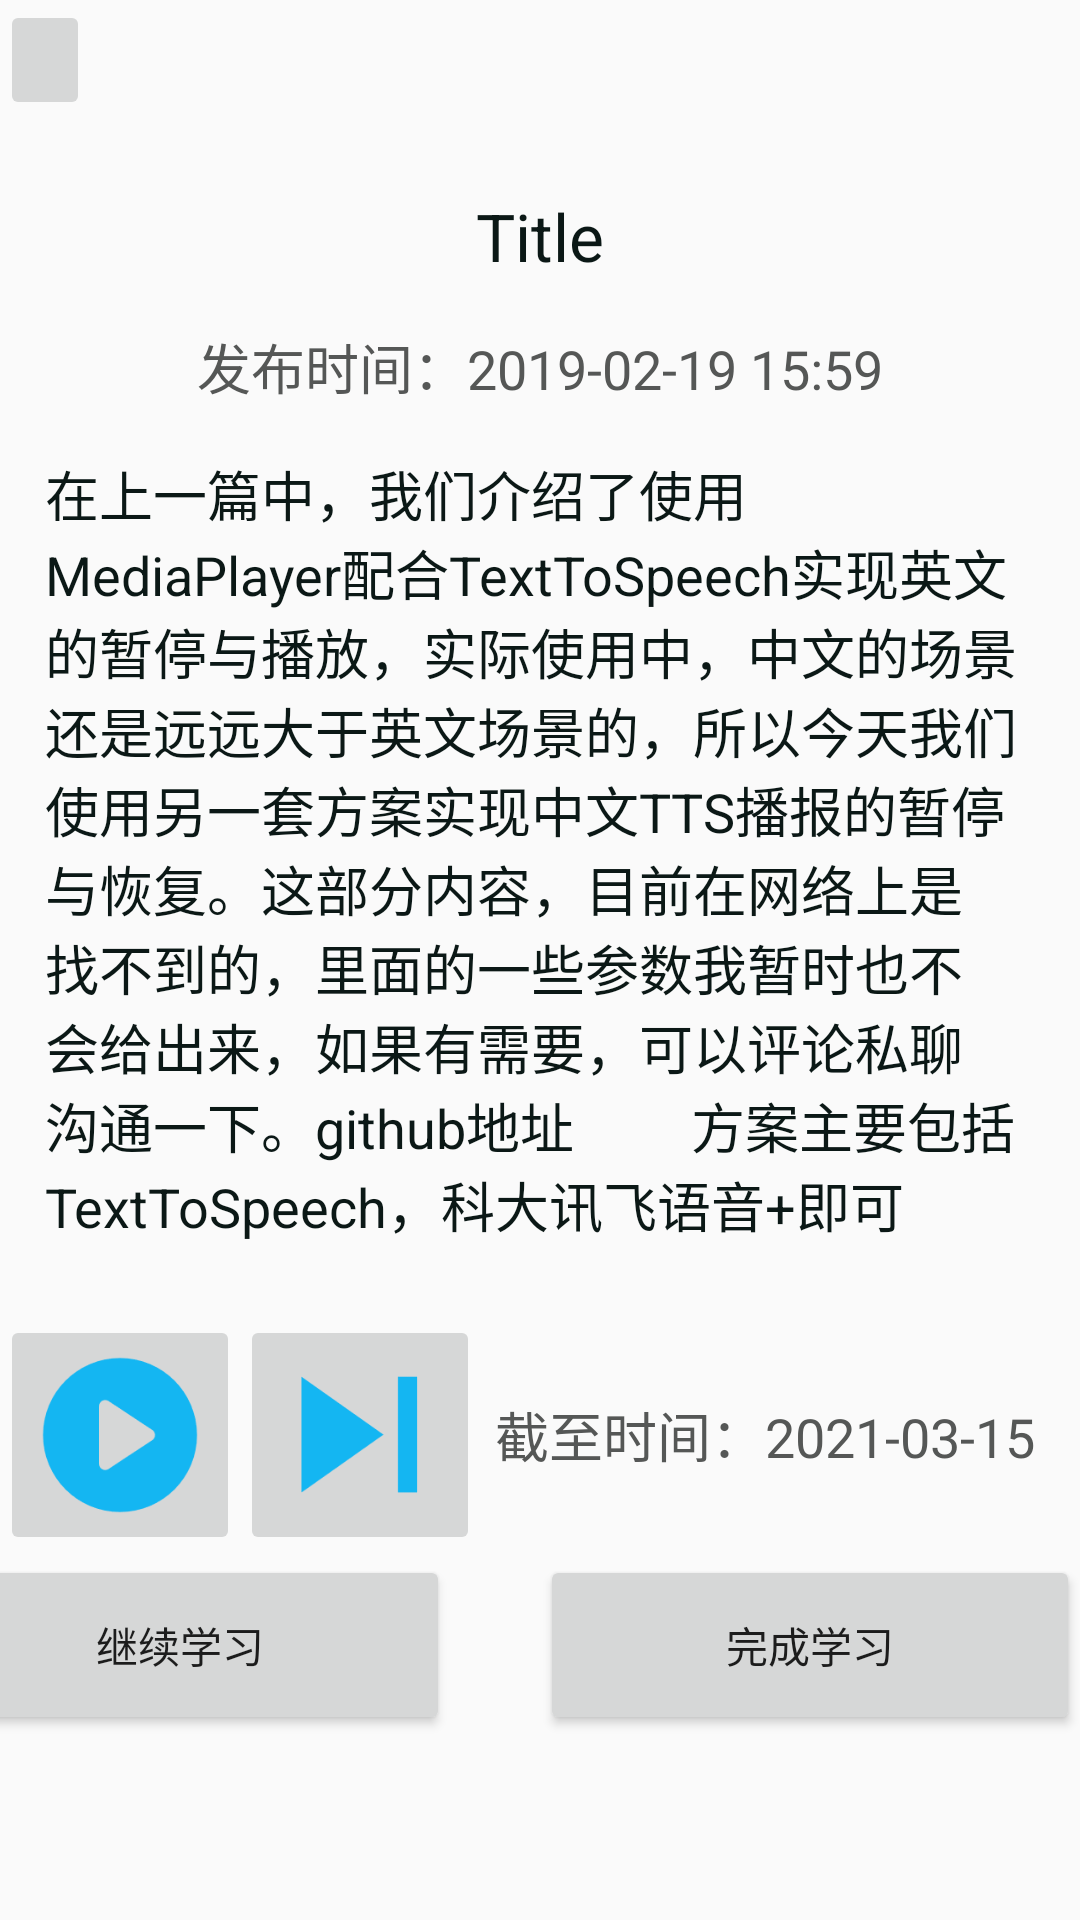

Screen size 1080px×1920px. Icon name, then its box in pixels as (x1, y1, x2, y2):
next: (252, 1333, 468, 1537)
